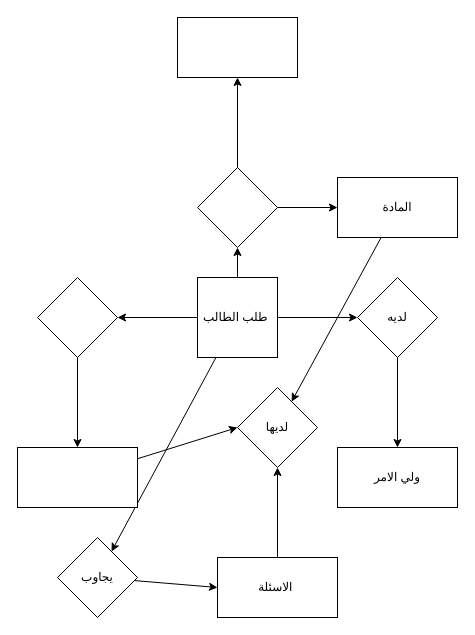
Image size: 475x635. Some labels were removed from this diagram. Here are the shapes that lost their labels. From the top down, the box of each, then its label:
(176, 16, 298, 78): المعلم
(36, 276, 118, 358): صف
(16, 446, 138, 508): الصف
